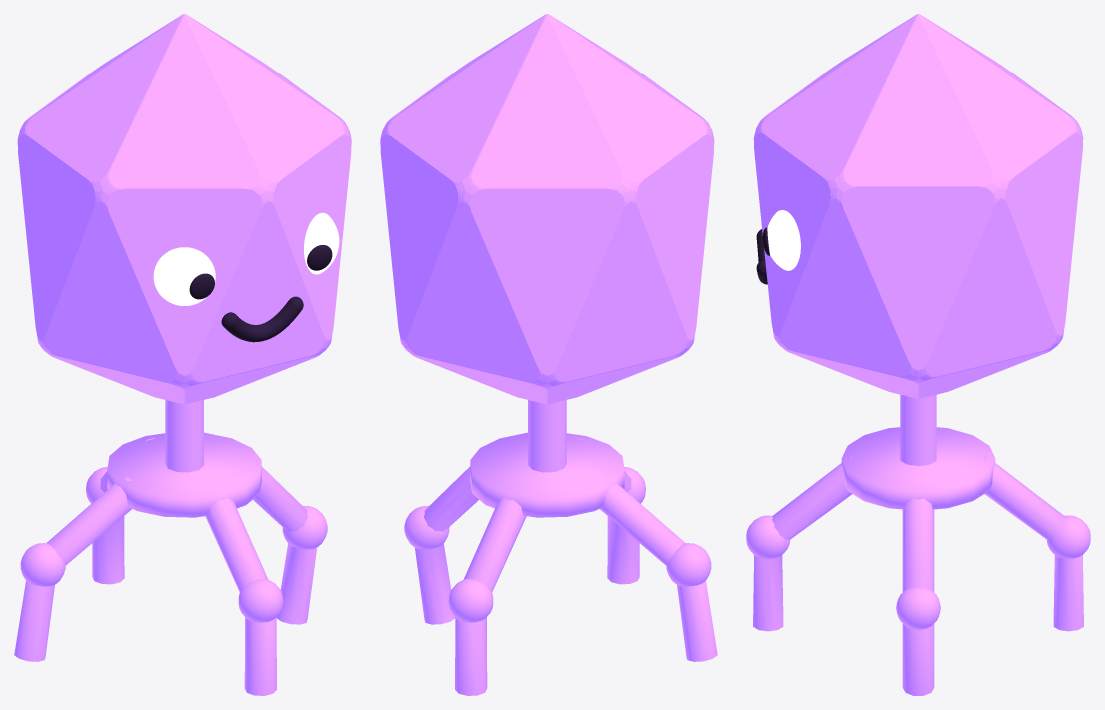
File: phage.glb
The picture shows the model from 3 angles, left to right: view 1: azimuth 30°, elevation 25°; view 2: azimuth 150°, elevation 25°; view 3: azimuth 270°, elevation 25°; orthographic projection.
Visible parts, largest first — view 1: phKopf, phBasisplatte, phBein4, phBein3, phBein1, phSchwanz, phBein2; view 2: phKopf, phBasisplatte, phBein2, phBein3, phBein1, phSchwanz, phBein4; view 3: phKopf, phBasisplatte, phBein1, phBein4, phBein2, phSchwanz.
Part boxes in pixels (bbox=[...]): phKopf: bbox=[17, 14, 351, 404]; phBasisplatte: bbox=[107, 432, 261, 517]; phBein4: bbox=[205, 488, 283, 695]; phBein3: bbox=[14, 475, 131, 661]; phBein1: bbox=[253, 466, 327, 624]; phSchwanz: bbox=[165, 400, 203, 472]; phBein2: bbox=[86, 438, 155, 584]; phKopf: bbox=[380, 14, 714, 404]; phBasisplatte: bbox=[470, 432, 624, 517]; phBein2: bbox=[448, 488, 526, 695]; phBein3: bbox=[600, 475, 717, 661]; phBein1: bbox=[404, 466, 478, 624]; phSchwanz: bbox=[528, 400, 566, 472]; phBein4: bbox=[576, 438, 645, 584]; phKopf: bbox=[753, 14, 1083, 398]; phBasisplatte: bbox=[841, 427, 995, 509]; phBein1: bbox=[896, 498, 940, 695]; phBein4: bbox=[746, 455, 852, 631]; phBein2: bbox=[984, 455, 1090, 631]; phSchwanz: bbox=[900, 394, 936, 465].
Size of the model in its own units: 1.11 by 2.15 by 1.08.
